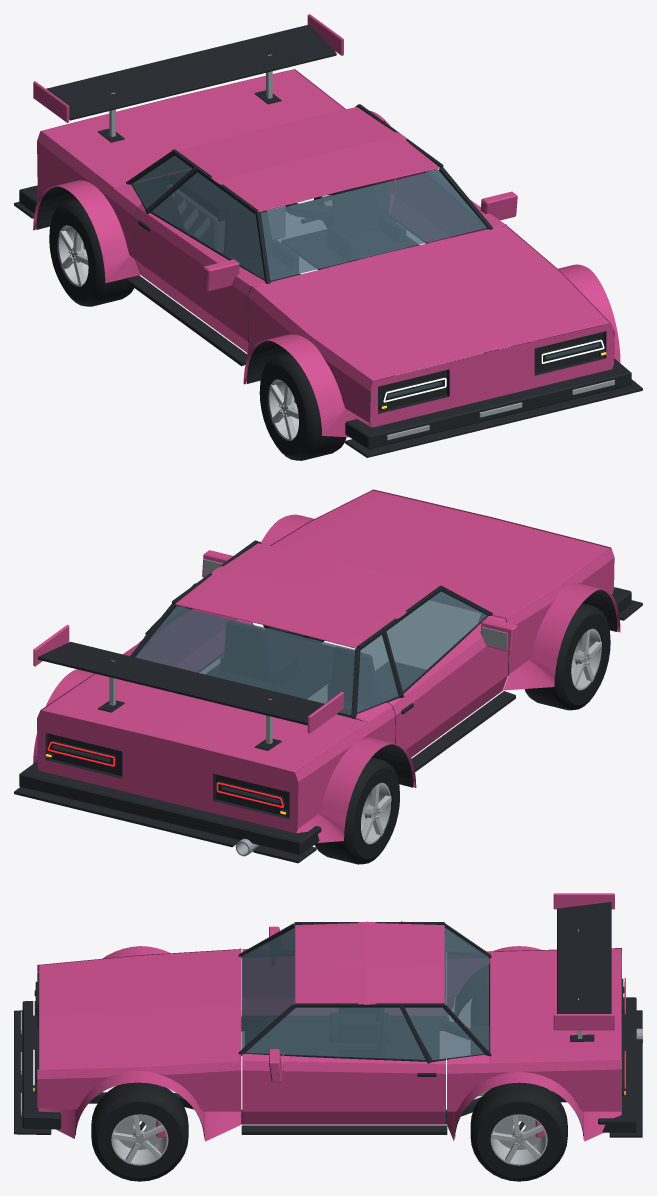
File: racer-r001.glb
3 renders of one model, top to bottom at view 1: azimuth 30°, elevation 25°; view 2: azimuth 150°, elevation 25°; view 3: azimuth 270°, elevation 25°, orthographic. The views are drawn at different scales.
Visible parts, largest first — view 1: hood.paint, roof.paint, trunk.paint, windshield.glass, spoiler.dark, front-bumper.dark, front-grille.paint, right-door.paint, right-front-fender.paint, right-rear-quarter.paint, right-window.glass, left-seat.dark (+20 smaller); view 2: hood.paint, roof.paint, trunk.paint, rear-window.glass, rear-panel.paint, rear-bumper.dark, right-door.paint, spoiler.dark, right-front-fender.paint, right-rear-quarter.paint, right-window.glass, left-door.paint (+20 smaller); view 3: hood.paint, left-door.paint, roof.paint, trunk.paint, left-front-fender.paint, left-rear-quarter.paint, left-window.glass, spoiler.dark, frame.dark, wheel:0.rubber, wheel:2.rubber, windshield.glass (+20 smaller).
Boxes of the visible parts, left/top/right/bottom form: hood.paint: left=251, top=224, right=609, bottom=381; roof.paint: left=177, top=107, right=439, bottom=211; trunk.paint: left=42, top=69, right=344, bottom=207; windshield.glass: left=261, top=170, right=487, bottom=280; spoiler.dark: left=46, top=24, right=336, bottom=142; front-bumper.dark: left=345, top=358, right=642, bottom=457; front-grille.paint: left=368, top=323, right=614, bottom=427; right-door.paint: left=134, top=204, right=265, bottom=352; right-front-fender.paint: left=243, top=287, right=371, bottom=437; right-rear-quarter.paint: left=33, top=131, right=140, bottom=283; right-window.glass: left=151, top=172, right=264, bottom=279; left-seat.dark: left=326, top=183, right=407, bottom=262; hood.paint: left=271, top=490, right=609, bottom=619; roof.paint: left=175, top=543, right=437, bottom=648; trunk.paint: left=42, top=643, right=391, bottom=772; rear-window.glass: left=135, top=606, right=354, bottom=715; rear-panel.paint: left=37, top=710, right=298, bottom=833; rear-bumper.dark: left=14, top=761, right=321, bottom=863; right-door.paint: left=387, top=616, right=508, bottom=757; spoiler.dark: left=37, top=641, right=324, bottom=750; right-front-fender.paint: left=503, top=548, right=620, bottom=690; right-rear-quarter.paint: left=295, top=706, right=416, bottom=842; right-window.glass: left=386, top=591, right=487, bottom=691; left-door.paint: left=137, top=608, right=252, bottom=671; hood.paint: left=39, top=948, right=241, bottom=1069; left-door.paint: left=242, top=1053, right=445, bottom=1124; roof.paint: left=295, top=921, right=444, bottom=1004; trunk.paint: left=447, top=948, right=621, bottom=1064; left-front-fender.paint: left=39, top=1061, right=241, bottom=1141; left-rear-quarter.paint: left=447, top=1060, right=621, bottom=1141; left-window.glass: left=245, top=1007, right=425, bottom=1059; spoiler.dark: left=557, top=902, right=611, bottom=1042; frame.dark: left=88, top=1017, right=566, bottom=1124; wheel:0.rubber: left=91, top=1082, right=188, bottom=1181; wheel:2.rubber: left=470, top=1082, right=567, bottom=1181; windshield.glass: left=241, top=928, right=294, bottom=1049.
Size of the model in its own units: 2.26 by 1.26 by 4.39.
